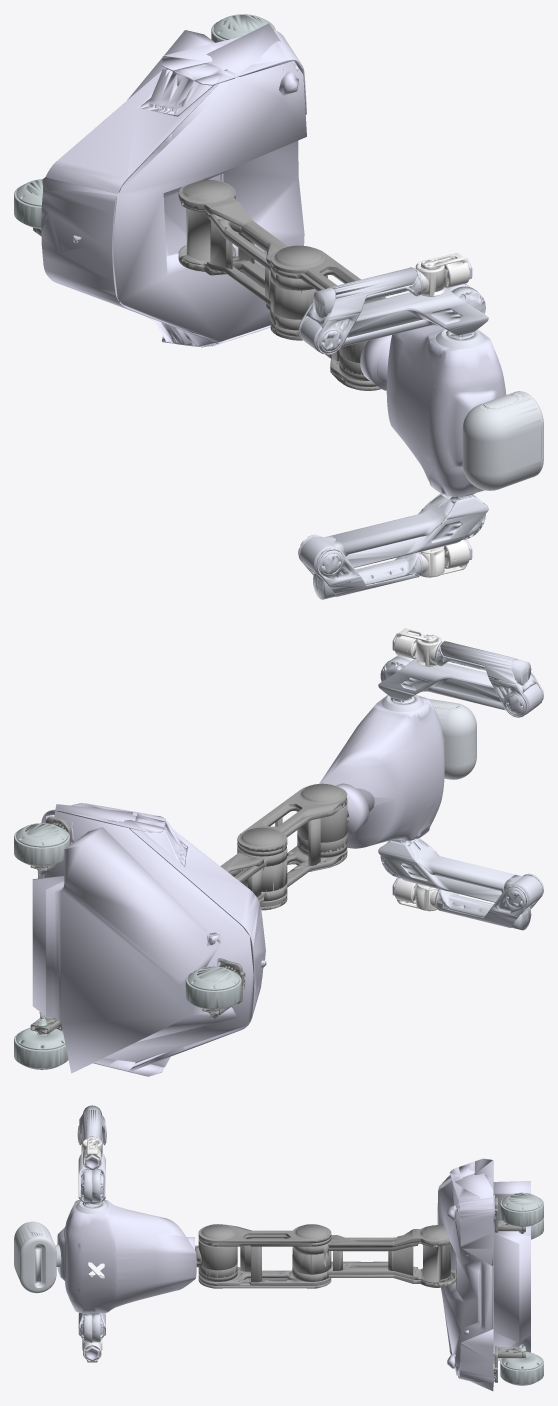
Rendered from galaxea_r1.glb.
The picture shows the model from 3 angles, top to bottom: view 1: azimuth 30°, elevation 25°; view 2: azimuth 150°, elevation 25°; view 3: azimuth 270°, elevation 25°; orthographic projection. The views are drawn at different scales.
Parts seen in each view (by area): view 1: visual__base_link__0, visual__torso_link4__0, visual__torso_link1__0, visual__zed_link__0, visual__right_arm_link2__0, visual__left_arm_link2__0, visual__left_arm_link3__0, visual__right_arm_link3__0, visual__torso_link2__0, visual__wheel_motor_link3__0, visual__wheel_motor_link1__0, visual__left_arm_link5__0 (+4 smaller); view 2: visual__base_link__0, visual__torso_link4__0, visual__torso_link2__0, visual__right_arm_link2__0, visual__left_arm_link2__0, visual__left_arm_link3__0, visual__right_arm_link3__0, visual__zed_link__0, visual__torso_link1__0, visual__wheel_motor_link3__0, visual__wheel_motor_link1__0, visual__wheel_motor_link2__0 (+5 smaller); view 3: visual__base_link__0, visual__torso_link4__0, visual__torso_link1__0, visual__torso_link2__0, visual__zed_link__0, visual__torso_link3__0, visual__wheel_motor_link1__0, visual__wheel_motor_link2__0, visual__left_arm_link3__0, visual__left_arm_link1__0, visual__right_arm_link1__0, visual__left_arm_link2__0 (+1 smaller).
Boxes of the visible parts, x1,y1,x2,y2 form: visual__base_link__0: [41, 23, 306, 347]; visual__torso_link4__0: [360, 325, 506, 496]; visual__torso_link1__0: [178, 179, 327, 330]; visual__zed_link__0: [462, 391, 543, 490]; visual__right_arm_link2__0: [300, 493, 488, 575]; visual__left_arm_link2__0: [300, 287, 488, 352]; visual__left_arm_link3__0: [298, 267, 423, 355]; visual__right_arm_link3__0: [298, 534, 423, 599]; visual__torso_link2__0: [270, 245, 386, 390]; visual__wheel_motor_link3__0: [14, 179, 42, 228]; visual__wheel_motor_link1__0: [211, 14, 275, 42]; visual__left_arm_link5__0: [421, 253, 470, 287]; visual__base_link__0: [32, 803, 266, 1076]; visual__torso_link4__0: [319, 695, 444, 848]; visual__torso_link2__0: [237, 783, 347, 910]; visual__right_arm_link2__0: [378, 838, 541, 909]; visual__left_arm_link2__0: [378, 658, 541, 714]; visual__left_arm_link3__0: [435, 641, 543, 717]; visual__right_arm_link3__0: [435, 873, 543, 930]; visual__zed_link__0: [429, 699, 476, 779]; visual__torso_link1__0: [220, 847, 287, 903]; visual__wheel_motor_link3__0: [185, 966, 241, 1018]; visual__wheel_motor_link1__0: [14, 823, 69, 875]; visual__wheel_motor_link2__0: [14, 1017, 68, 1069]; visual__base_link__0: [437, 1158, 530, 1390]; visual__torso_link4__0: [57, 1200, 196, 1313]; visual__torso_link1__0: [292, 1225, 456, 1287]; visual__torso_link2__0: [198, 1224, 331, 1288]; visual__zed_link__0: [14, 1221, 61, 1293]; visual__torso_link3__0: [195, 1239, 237, 1281]; visual__wheel_motor_link1__0: [500, 1192, 543, 1233]; visual__wheel_motor_link2__0: [500, 1344, 543, 1385]; visual__left_arm_link3__0: [77, 1105, 106, 1145]; visual__left_arm_link1__0: [81, 1170, 103, 1207]; visual__right_arm_link1__0: [81, 1313, 103, 1342]; visual__left_arm_link2__0: [78, 1133, 105, 1202].
Bounding box in the file's own units: 0.7034 × 0.7494 × 1.7.
